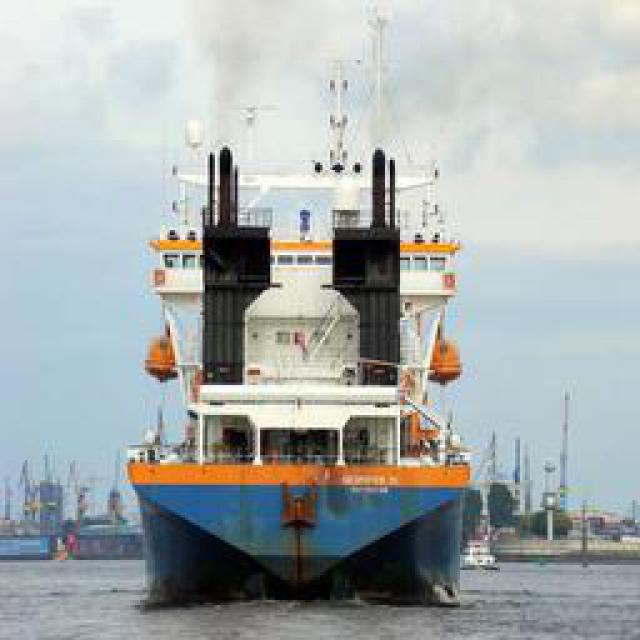Ship: (121, 185, 484, 593)
